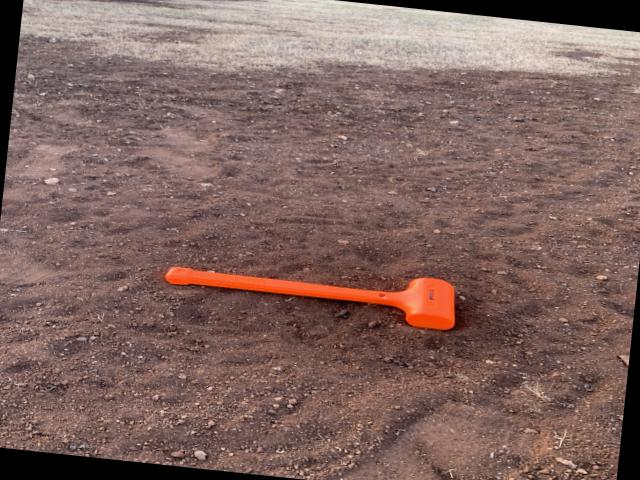hammer: (162, 250, 462, 330)
